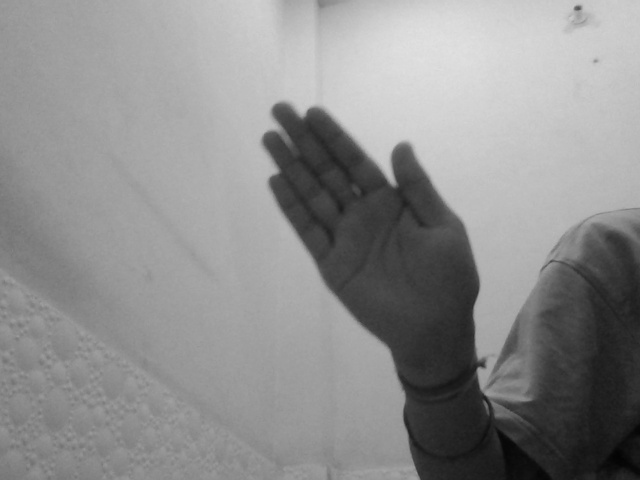Hello: (260, 97, 480, 352)
